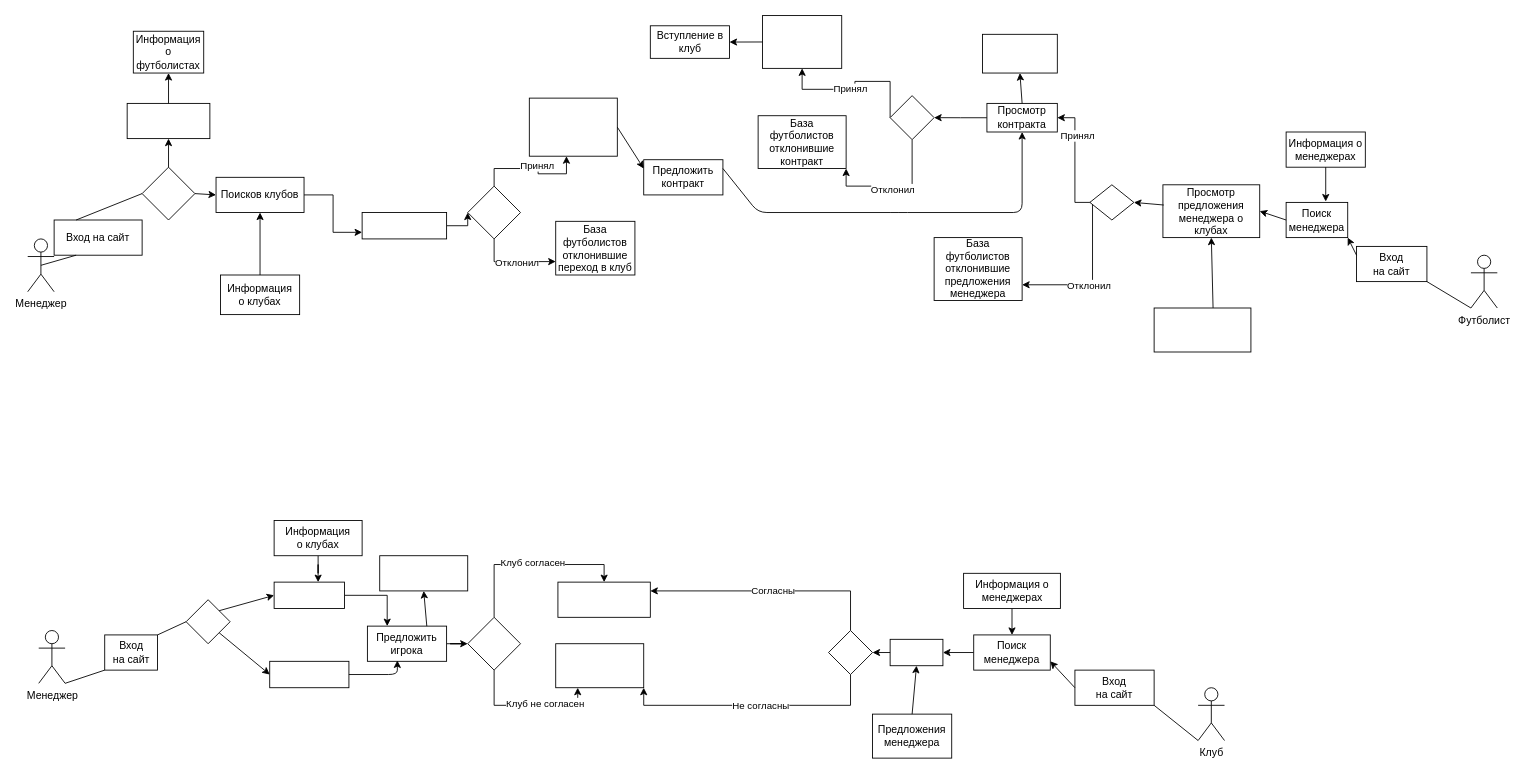
The diagram is 1525 pixels wide and 774 high, and some of its shapes have lost their labels. Here are the shapes that lost their labels. From the top down, the centre of each, then its label:
At point 802,41: "База футболистов принявших контракт".
At point 1019,53: "База контрактов".
At point 168,121: "Поиск футболиста".
At point 572,126: "База футболистов принявших переход".
At point 404,225: "Переход в клуб".
At point 1202,329: "Предложение менеджера".
At point 423,573: "Информация о игроках".
At point 309,595: "Поиск клуба".
At point 603,599: "Клуб купил игрока".
At point 599,665: "База отклонивших предложений".
At point 916,652: "Купить игрока".
At point 309,674: "Поиск игроков".
